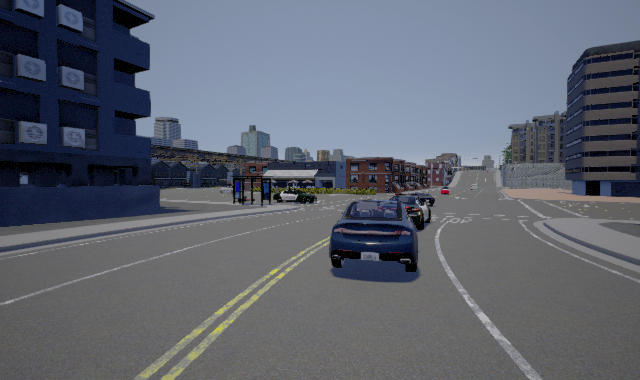vehicle: (329, 198, 417, 272), (385, 195, 432, 226), (273, 189, 317, 204), (439, 186, 451, 195)
